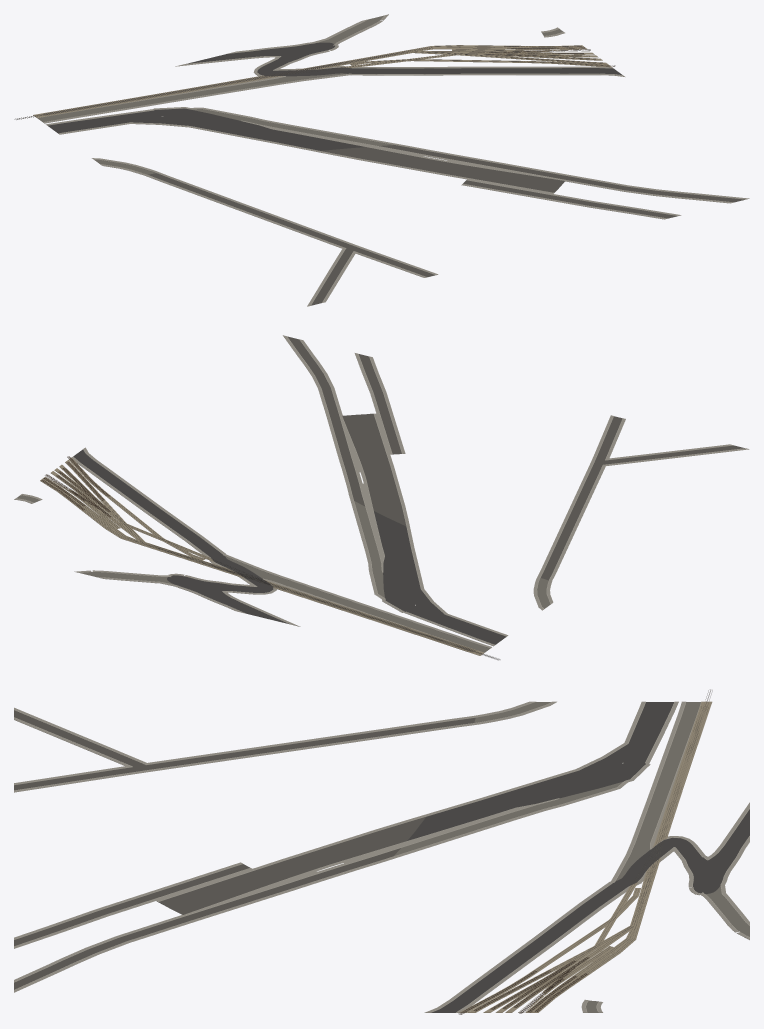
File: Ulice_1_2.fbx
3 views of the same model, one above another, from view 1: azimuth 30°, elevation 25°; view 2: azimuth 150°, elevation 25°; view 3: azimuth 270°, elevation 25° (orthographic). The views are drawn at different scales.
Visible parts, largest first — view 1: Ulica_1_2, Chodnik_1_2, Tory_1_2, Podklady_1_2_NOCOL; view 2: Ulica_1_2, Chodnik_1_2, Tory_1_2, Podklady_1_2_NOCOL; view 3: Ulica_1_2, Chodnik_1_2, Tory_1_2, Podklady_1_2_NOCOL.
Part boxes in pixels (<box>): Ulica_1_2: <box>38,15,744,305</box>; Chodnik_1_2: <box>37,14,749,306</box>; Tory_1_2: <box>14,45,615,119</box>; Podklady_1_2_NOCOL: <box>478,45,614,66</box>; Ulica_1_2: <box>16,336,744,652</box>; Chodnik_1_2: <box>14,335,749,648</box>; Tory_1_2: <box>40,456,500,660</box>; Podklady_1_2_NOCOL: <box>41,456,110,517</box>; Ulica_1_2: <box>14,702,749,1012</box>; Chodnik_1_2: <box>14,701,749,1012</box>; Tory_1_2: <box>459,689,712,1013</box>; Podklady_1_2_NOCOL: <box>458,957,589,1014</box>.
Size of the model in its own units: 523 by 0.5 by 500.
